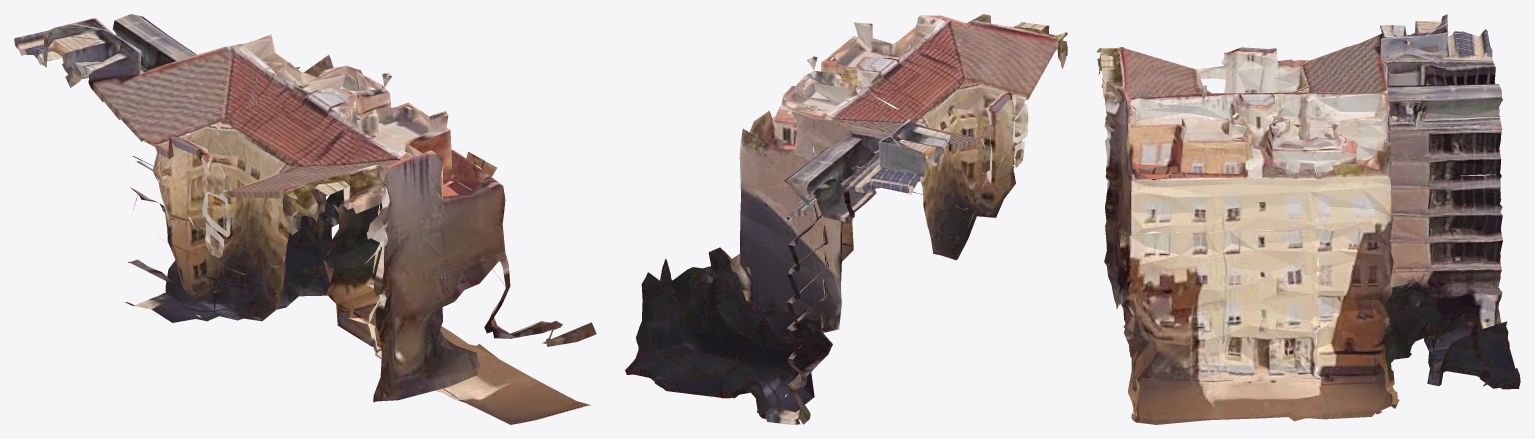
3 renders of one model, left to right at view 1: azimuth 30°, elevation 25°; view 2: azimuth 150°, elevation 25°; view 3: azimuth 270°, elevation 25°, orthographic. The views are drawn at different scales.
Visible parts, largest first — view 1: Mesh_0; view 2: Mesh_0; view 3: Mesh_0.
Boxes of the visible parts, x1=… form: Mesh_0: x1=14, y1=14, x2=596, y2=424; Mesh_0: x1=625, y1=14, x2=1067, y2=424; Mesh_0: x1=1096, y1=14, x2=1520, y2=424.
Bounding box in the file's own units: 33.3 × 29.48 × 41.28.
Materials: 1 (1 with a texture image).
